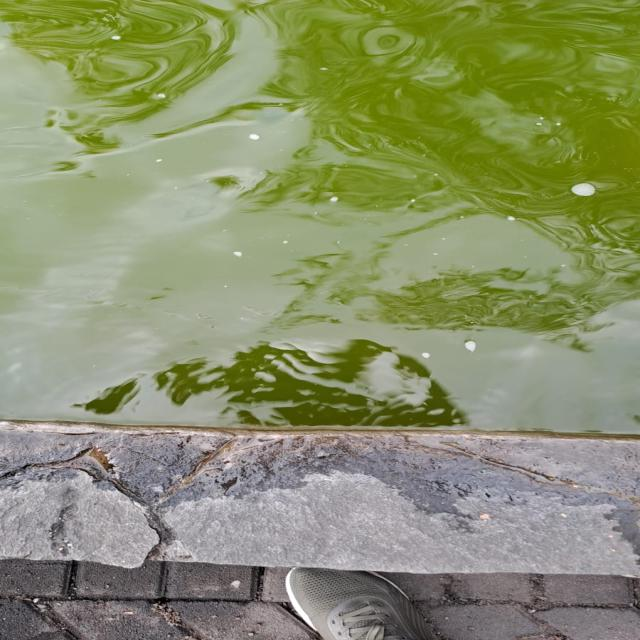Ponds: (1, 1, 640, 572)
